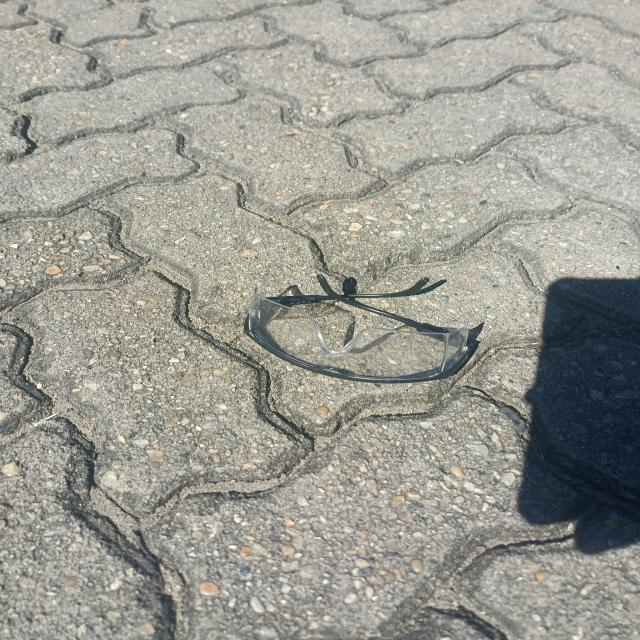oculos-epi: (245, 275, 474, 383)
